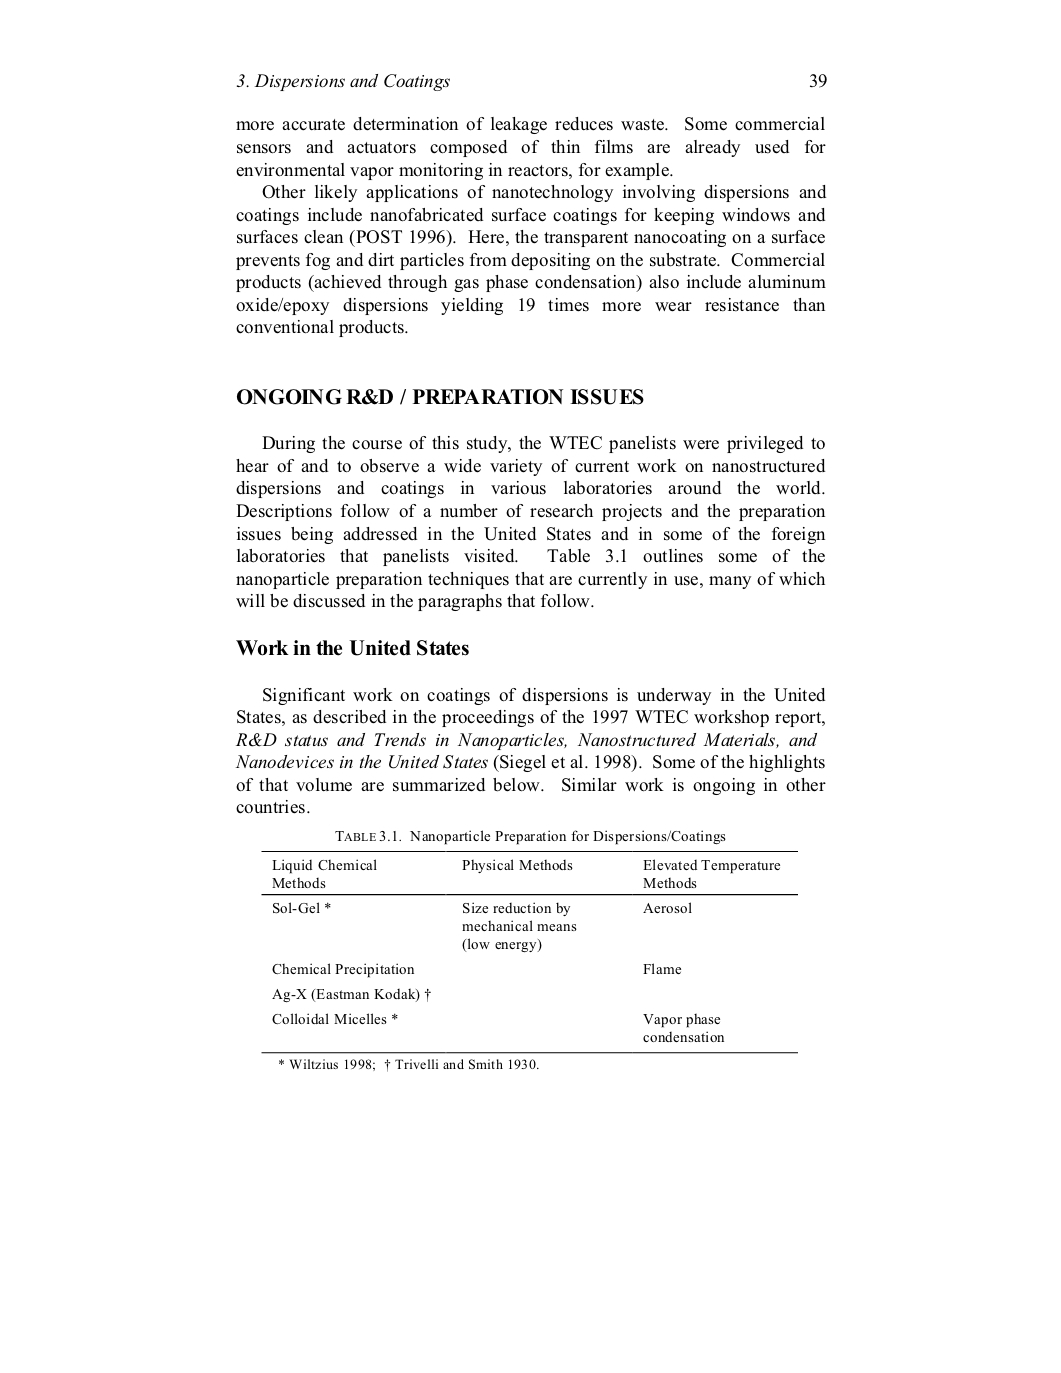Table: (261, 851, 797, 1053)
